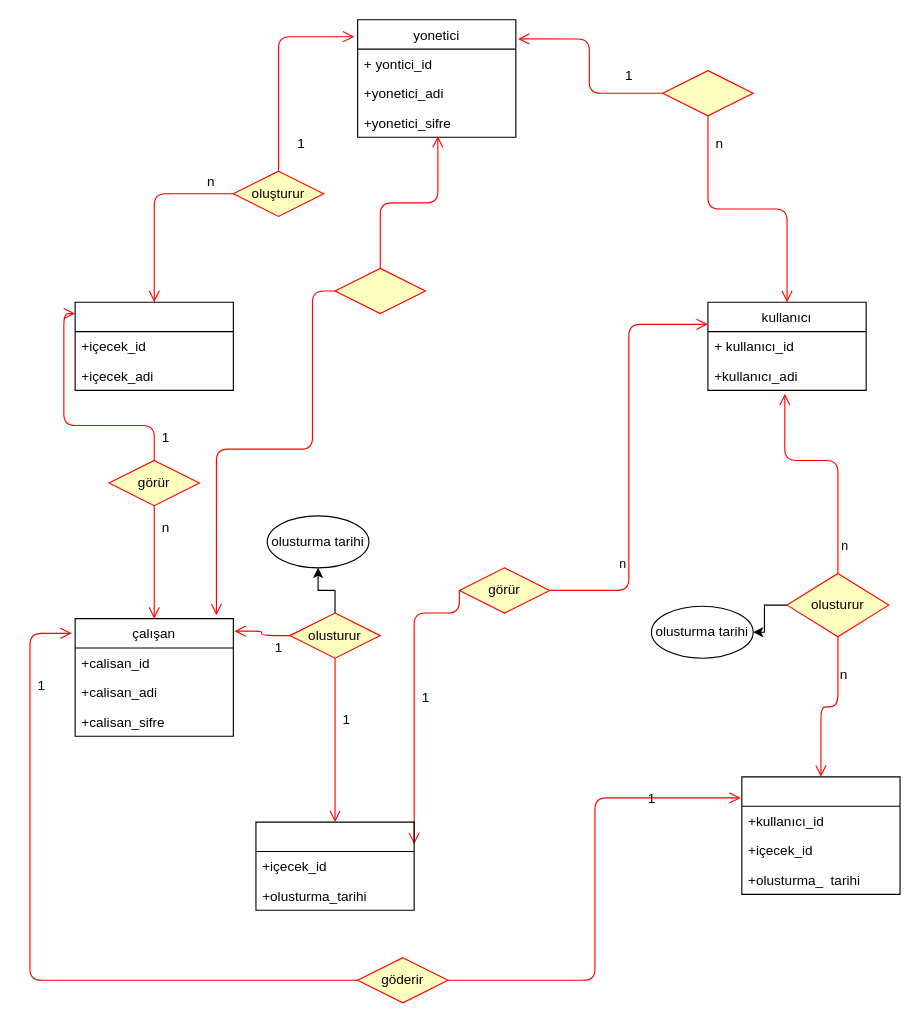
This 920x1023 diagram has some shape labels left out. Here are the shapes that lost their labels. From the top down, the box of each, then its label:
(662, 69, 753, 116): listeyi görürü
(334, 267, 425, 314): listeyi_görür
(74, 301, 233, 390): içecek_liste
(741, 776, 900, 894): tepsi
(255, 821, 414, 910): menü
